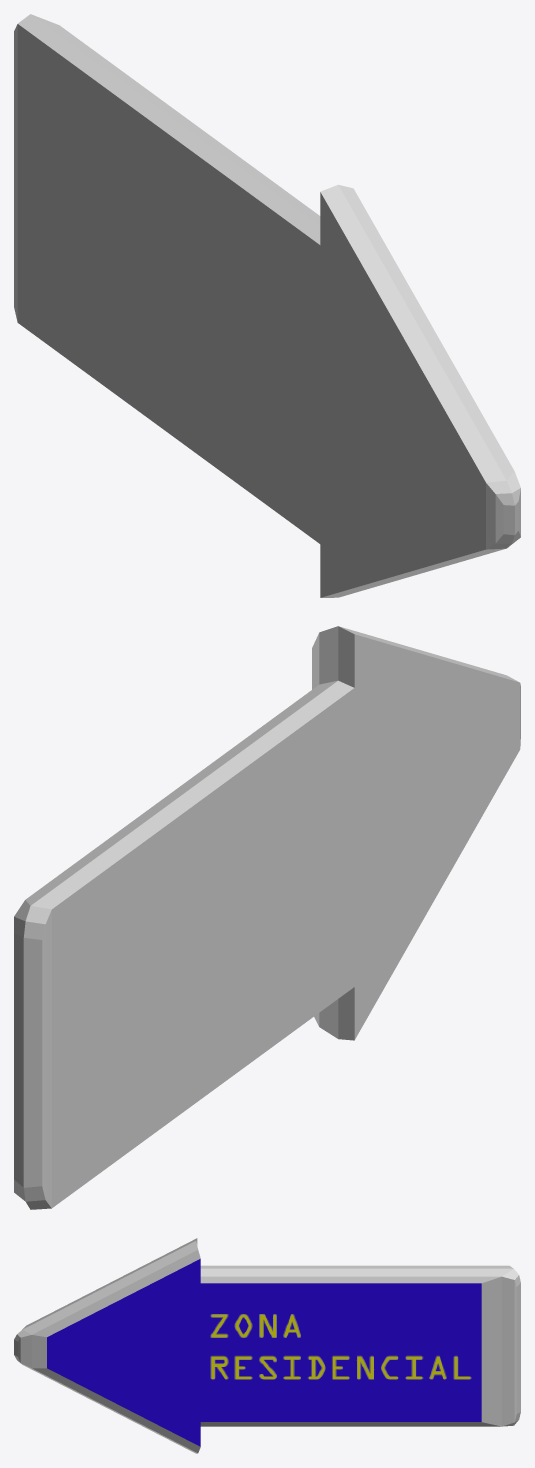
The model's file is señal_residencia_es.fbx.
3 views of the same model, one above another, from view 1: azimuth 30°, elevation 25°; view 2: azimuth 150°, elevation 25°; view 3: azimuth 270°, elevation 25° (orthographic). The views are drawn at different scales.
Parts seen in each view (by area): view 1: Pointer:Mesh; view 2: Pointer:Mesh; view 3: Pointer:Mesh.
Boxes of the visible parts, <box> form: Pointer:Mesh: <box>14,14,520,597</box>; Pointer:Mesh: <box>14,626,520,1209</box>; Pointer:Mesh: <box>14,1238,520,1453</box>.
Bounding box in the file's own units: 0.1567 × 1.59 × 3.42.
3 materials, 1 textured.
